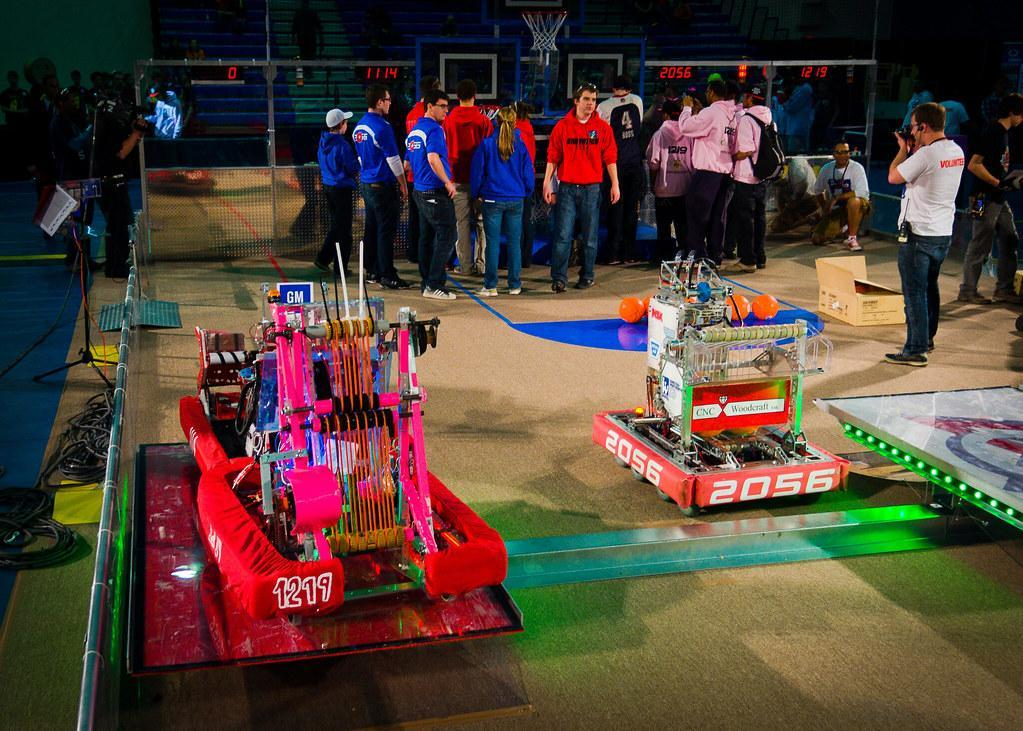robot: (189, 240, 517, 624), (584, 250, 858, 529), (174, 268, 415, 480)
